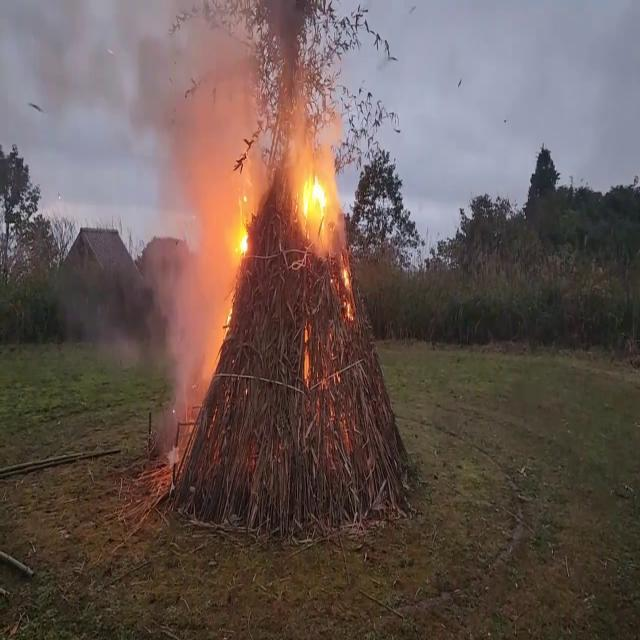Fire: (227, 168, 254, 269), (298, 160, 330, 232)
Smoke: (133, 1, 304, 207)
